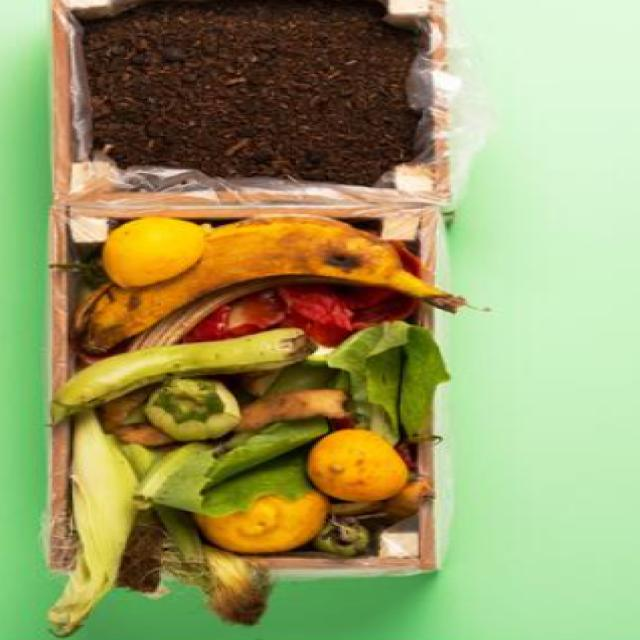paper: (170, 212, 503, 312), (154, 36, 390, 128), (70, 334, 322, 384), (214, 482, 340, 559), (298, 422, 398, 501), (143, 367, 245, 432), (112, 208, 212, 262)
